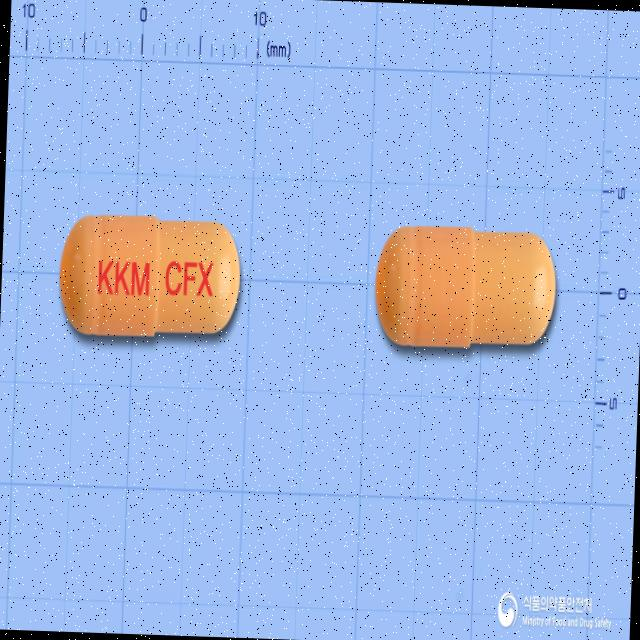Cefick Cap: (55, 206, 246, 350), (371, 218, 562, 360)
